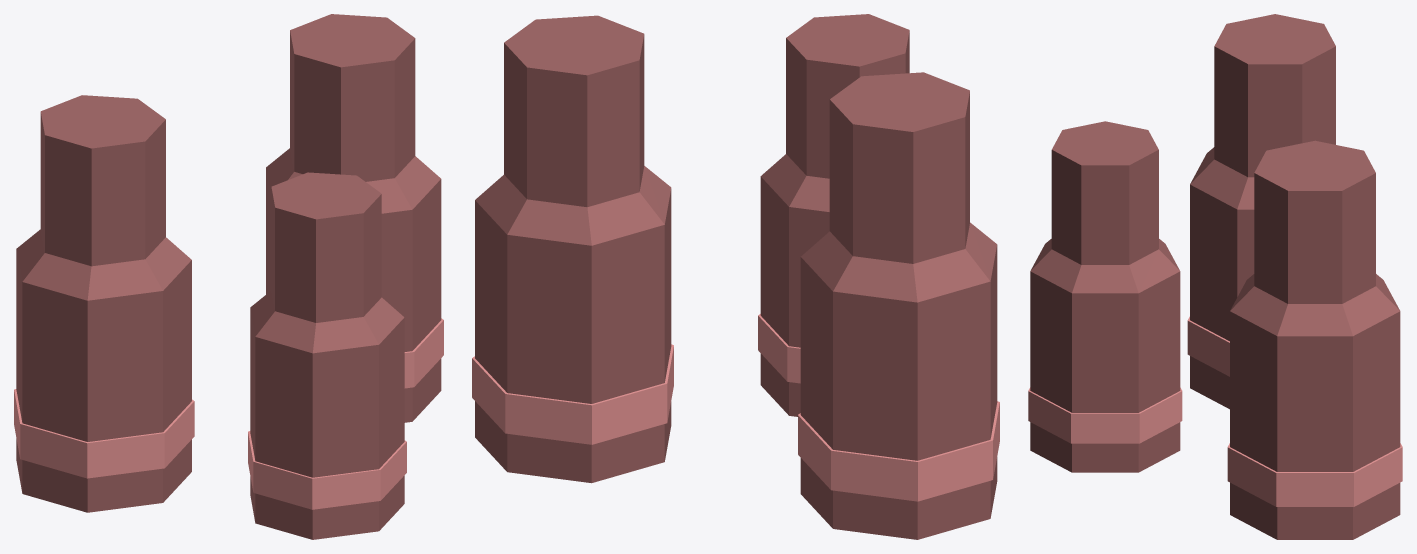
The model's file is ce_ammo2_flare_bio_b.obj.
3 renders of one model, left to right at view 1: azimuth 30°, elevation 25°; view 2: azimuth 150°, elevation 25°; view 3: azimuth 270°, elevation 25°, orthographic. The views are drawn at different scales.
Parts seen in each view (by area): view 1: ce_ammo2_flare_bio_b_2, ce_ammo2_flare_bio_b_4, ce_ammo2_flare_bio_b_12, ce_ammo2_flare_bio_b_9, ce_ammo2_flare_bio_b_14, ce_ammo2_flare_bio_b_7, ce_ammo2_flare_bio_b_1, ce_ammo2_flare_bio_b_3, ce_ammo2_flare_bio_b_0, ce_ammo2_flare_bio_b_11, ce_ammo2_flare_bio_b_13, ce_ammo2_flare_bio_b_10 (+3 smaller); view 2: ce_ammo2_flare_bio_b_2, ce_ammo2_flare_bio_b_7, ce_ammo2_flare_bio_b_4, ce_ammo2_flare_bio_b_9, ce_ammo2_flare_bio_b_14, ce_ammo2_flare_bio_b_1, ce_ammo2_flare_bio_b_6, ce_ammo2_flare_bio_b_3, ce_ammo2_flare_bio_b_8, ce_ammo2_flare_bio_b_0, ce_ammo2_flare_bio_b_5, ce_ammo2_flare_bio_b_12 (+3 smaller); view 3: ce_ammo2_flare_bio_b_7, ce_ammo2_flare_bio_b_9, ce_ammo2_flare_bio_b_12, ce_ammo2_flare_bio_b_4, ce_ammo2_flare_bio_b_14, ce_ammo2_flare_bio_b_2, ce_ammo2_flare_bio_b_6, ce_ammo2_flare_bio_b_8, ce_ammo2_flare_bio_b_5, ce_ammo2_flare_bio_b_11, ce_ammo2_flare_bio_b_10, ce_ammo2_flare_bio_b_13 (+3 smaller).
Part boxes in pixels (x1,y1,x2,y2): ce_ammo2_flare_bio_b_2: [16, 249, 191, 441]; ce_ammo2_flare_bio_b_4: [40, 95, 165, 266]; ce_ammo2_flare_bio_b_12: [250, 309, 404, 477]; ce_ammo2_flare_bio_b_9: [290, 14, 415, 181]; ce_ammo2_flare_bio_b_14: [271, 172, 381, 322]; ce_ammo2_flare_bio_b_7: [266, 169, 441, 351]; ce_ammo2_flare_bio_b_1: [14, 389, 194, 478]; ce_ammo2_flare_bio_b_3: [16, 229, 191, 300]; ce_ammo2_flare_bio_b_0: [16, 439, 191, 512]; ce_ammo2_flare_bio_b_11: [248, 431, 406, 509]; ce_ammo2_flare_bio_b_13: [250, 290, 404, 353]; ce_ammo2_flare_bio_b_10: [250, 475, 404, 539]; ce_ammo2_flare_bio_b_2: [800, 245, 997, 460]; ce_ammo2_flare_bio_b_7: [475, 189, 671, 403]; ce_ammo2_flare_bio_b_4: [829, 72, 969, 263]; ce_ammo2_flare_bio_b_9: [504, 15, 644, 207]; ce_ammo2_flare_bio_b_14: [786, 14, 909, 178]; ce_ammo2_flare_bio_b_1: [798, 401, 999, 501]; ce_ammo2_flare_bio_b_6: [472, 344, 673, 444]; ce_ammo2_flare_bio_b_3: [801, 222, 996, 302]; ce_ammo2_flare_bio_b_8: [475, 166, 671, 245]; ce_ammo2_flare_bio_b_0: [800, 457, 997, 539]; ce_ammo2_flare_bio_b_5: [475, 401, 671, 483]; ce_ammo2_flare_bio_b_12: [760, 176, 829, 347]; ce_ammo2_flare_bio_b_7: [1230, 311, 1400, 471]; ce_ammo2_flare_bio_b_9: [1254, 140, 1375, 303]; ce_ammo2_flare_bio_b_12: [1030, 271, 1180, 412]; ce_ammo2_flare_bio_b_4: [1214, 14, 1335, 177]; ce_ammo2_flare_bio_b_14: [1051, 121, 1158, 264]; ce_ammo2_flare_bio_b_2: [1190, 184, 1254, 341]; ce_ammo2_flare_bio_b_6: [1227, 443, 1402, 506]; ce_ammo2_flare_bio_b_8: [1230, 274, 1399, 336]; ce_ammo2_flare_bio_b_5: [1230, 482, 1400, 539]; ce_ammo2_flare_bio_b_11: [1028, 387, 1182, 443]; ce_ammo2_flare_bio_b_10: [1030, 422, 1180, 472]; ce_ammo2_flare_bio_b_13: [1030, 239, 1179, 293].
Size of the model in its own units: 0.4711 by 0.375 by 0.3749.
